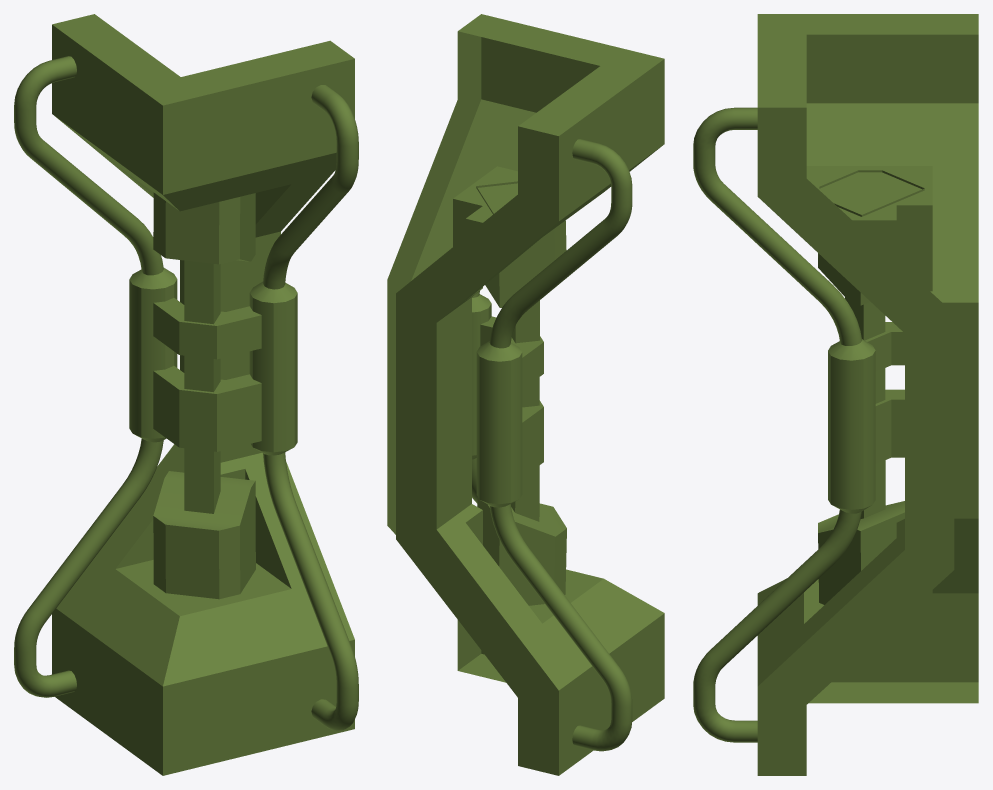
Rendered from Wall_A_4x1m_TurnOut.FBX.
3 views of the same model, side by side, from view 1: azimuth 30°, elevation 25°; view 2: azimuth 150°, elevation 25°; view 3: azimuth 270°, elevation 25° (orthographic). The views are drawn at different scales.
Parts seen in each view (by area): view 1: Wall_A_4x1m_TurnOut; view 2: Wall_A_4x1m_TurnOut; view 3: Wall_A_4x1m_TurnOut.
Part boxes in pixels (x1,y1,x2,y2): Wall_A_4x1m_TurnOut: (14, 14, 358, 775); Wall_A_4x1m_TurnOut: (387, 14, 664, 775); Wall_A_4x1m_TurnOut: (693, 14, 978, 775).
Bounding box in the file's own units: 155 × 400 × 155.
